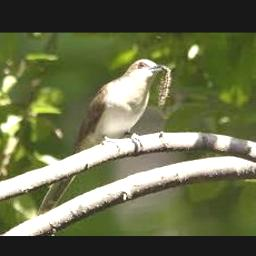Cuckoo: (39, 59, 167, 216)
